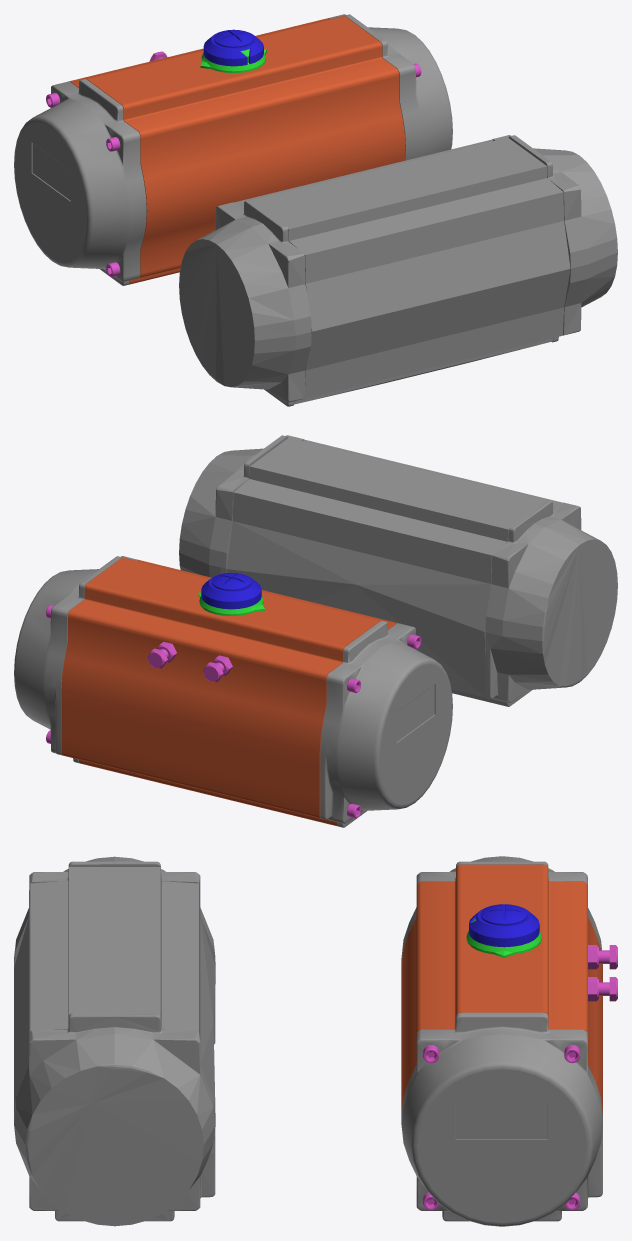
3 views of the same model, one above another, from view 1: azimuth 30°, elevation 25°; view 2: azimuth 150°, elevation 25°; view 3: azimuth 270°, elevation 25° (orthographic). The views are drawn at different scales.
Visible parts, largest first — view 1: 210(VP1200DA_Outline, 210(VP1200DA); view 2: 210(VP1200DA), 210(VP1200DA_Outline; view 3: 210(VP1200DA), 210(VP1200DA_Outline.
Part boxes in pixels (bbox=[...]): 210(VP1200DA_Outline: bbox=[179, 135, 617, 406]; 210(VP1200DA): bbox=[14, 14, 452, 285]; 210(VP1200DA): bbox=[14, 556, 452, 827]; 210(VP1200DA_Outline: bbox=[179, 435, 617, 706]; 210(VP1200DA): bbox=[401, 856, 617, 1226]; 210(VP1200DA_Outline: bbox=[14, 856, 215, 1226].
Bounding box in the file's own units: 56.05 × 29.4 × 68.42.
